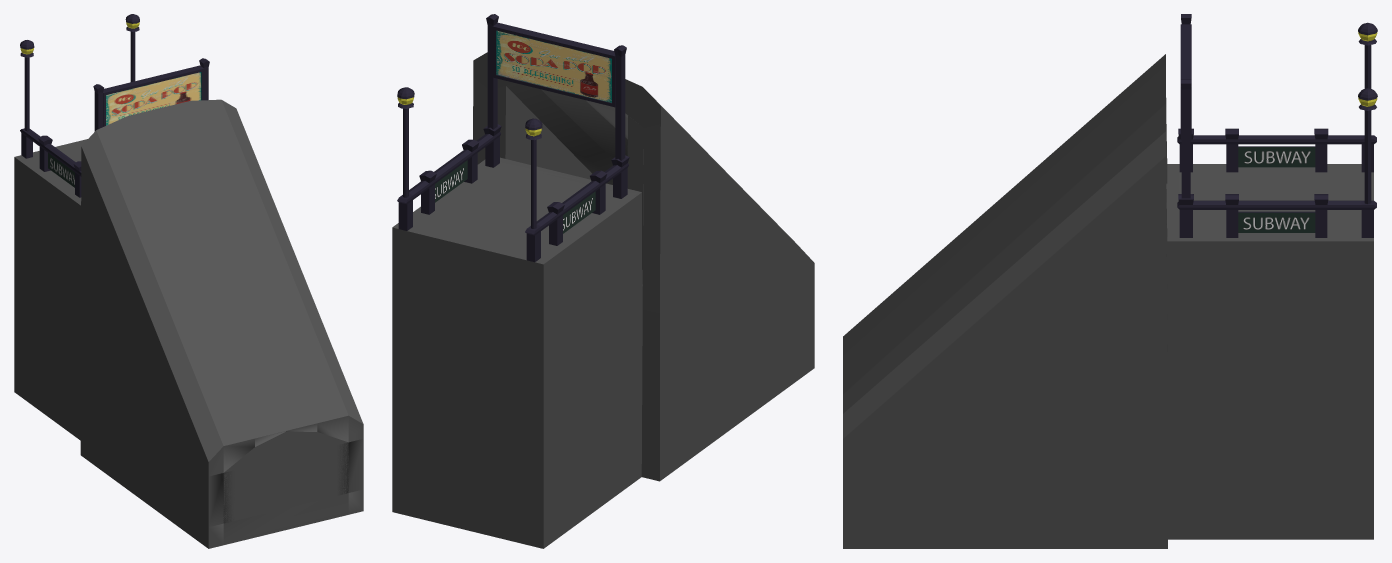
File: subway-entrance.fbx
3 views of the same model, side by side, from view 1: azimuth 30°, elevation 25°; view 2: azimuth 150°, elevation 25°; view 3: azimuth 270°, elevation 25° (orthographic). The views are drawn at different scales.
Parts seen in each view (by area): view 1: 6. subway-entrance; view 2: 6. subway-entrance; view 3: 6. subway-entrance.
Boxes of the visible parts, left/top/right/bottom form: 6. subway-entrance: left=14, top=14, right=363, bottom=548; 6. subway-entrance: left=392, top=14, right=814, bottom=548; 6. subway-entrance: left=843, top=14, right=1377, bottom=548.
Bounding box in the file's own units: 7.76 × 17.13 × 18.28.
